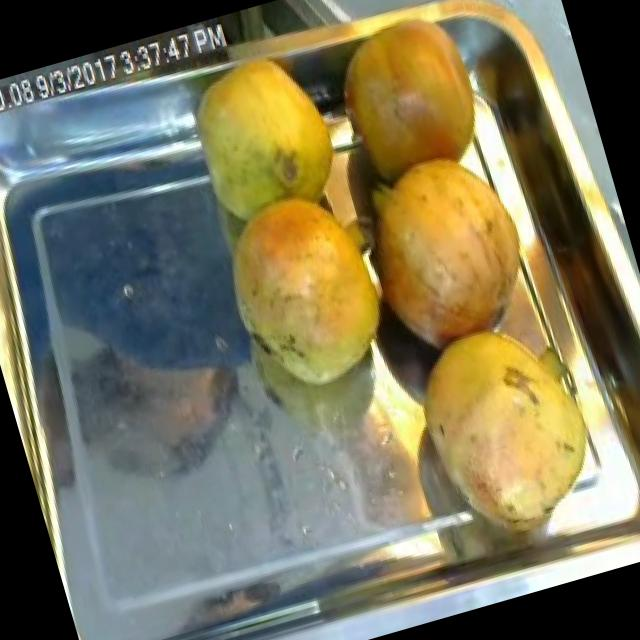fruit: (393, 294, 628, 564), (198, 159, 421, 421), (340, 127, 553, 370), (170, 32, 362, 236), (311, 0, 507, 195)
